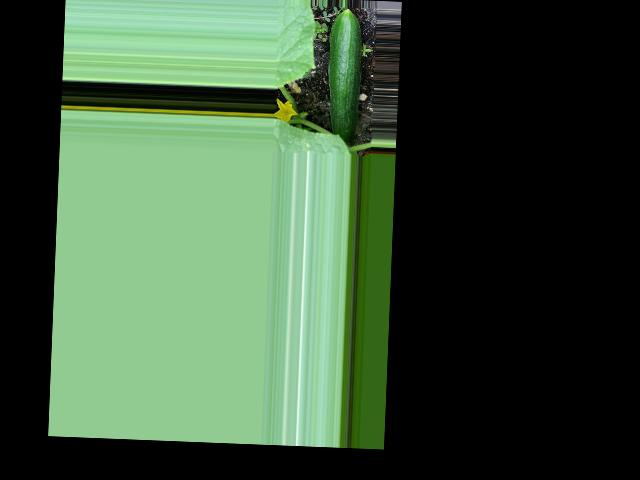cucumber: (325, 7, 364, 142)
